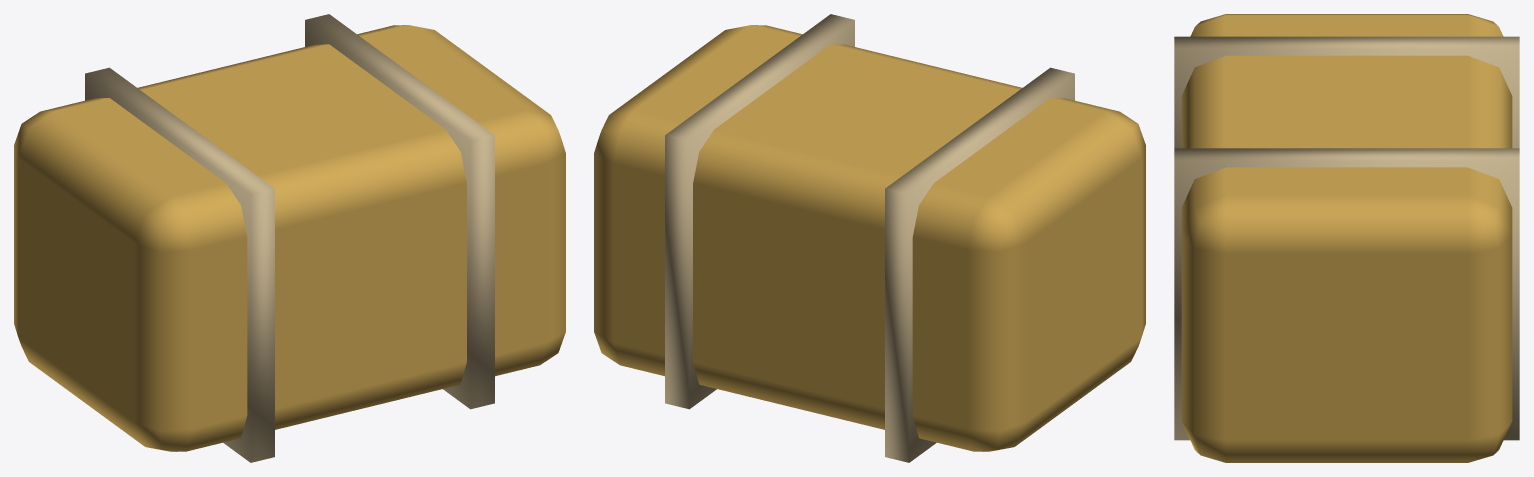
File: hay_bale.glb
The picture shows the model from 3 angles, left to right: view 1: azimuth 30°, elevation 25°; view 2: azimuth 150°, elevation 25°; view 3: azimuth 270°, elevation 25°; orthographic projection. The views are drawn at different scales.
Parts seen in each view (by area): view 1: hay_bale; view 2: hay_bale; view 3: hay_bale.
Boxes of the visible parts, x1=… form: hay_bale: x1=14, y1=14, x2=565, y2=462; hay_bale: x1=594, y1=14, x2=1145, y2=462; hay_bale: x1=1174, y1=14, x2=1519, y2=462.
Bounding box in the file's own units: 0.7 × 0.42 × 0.47.
